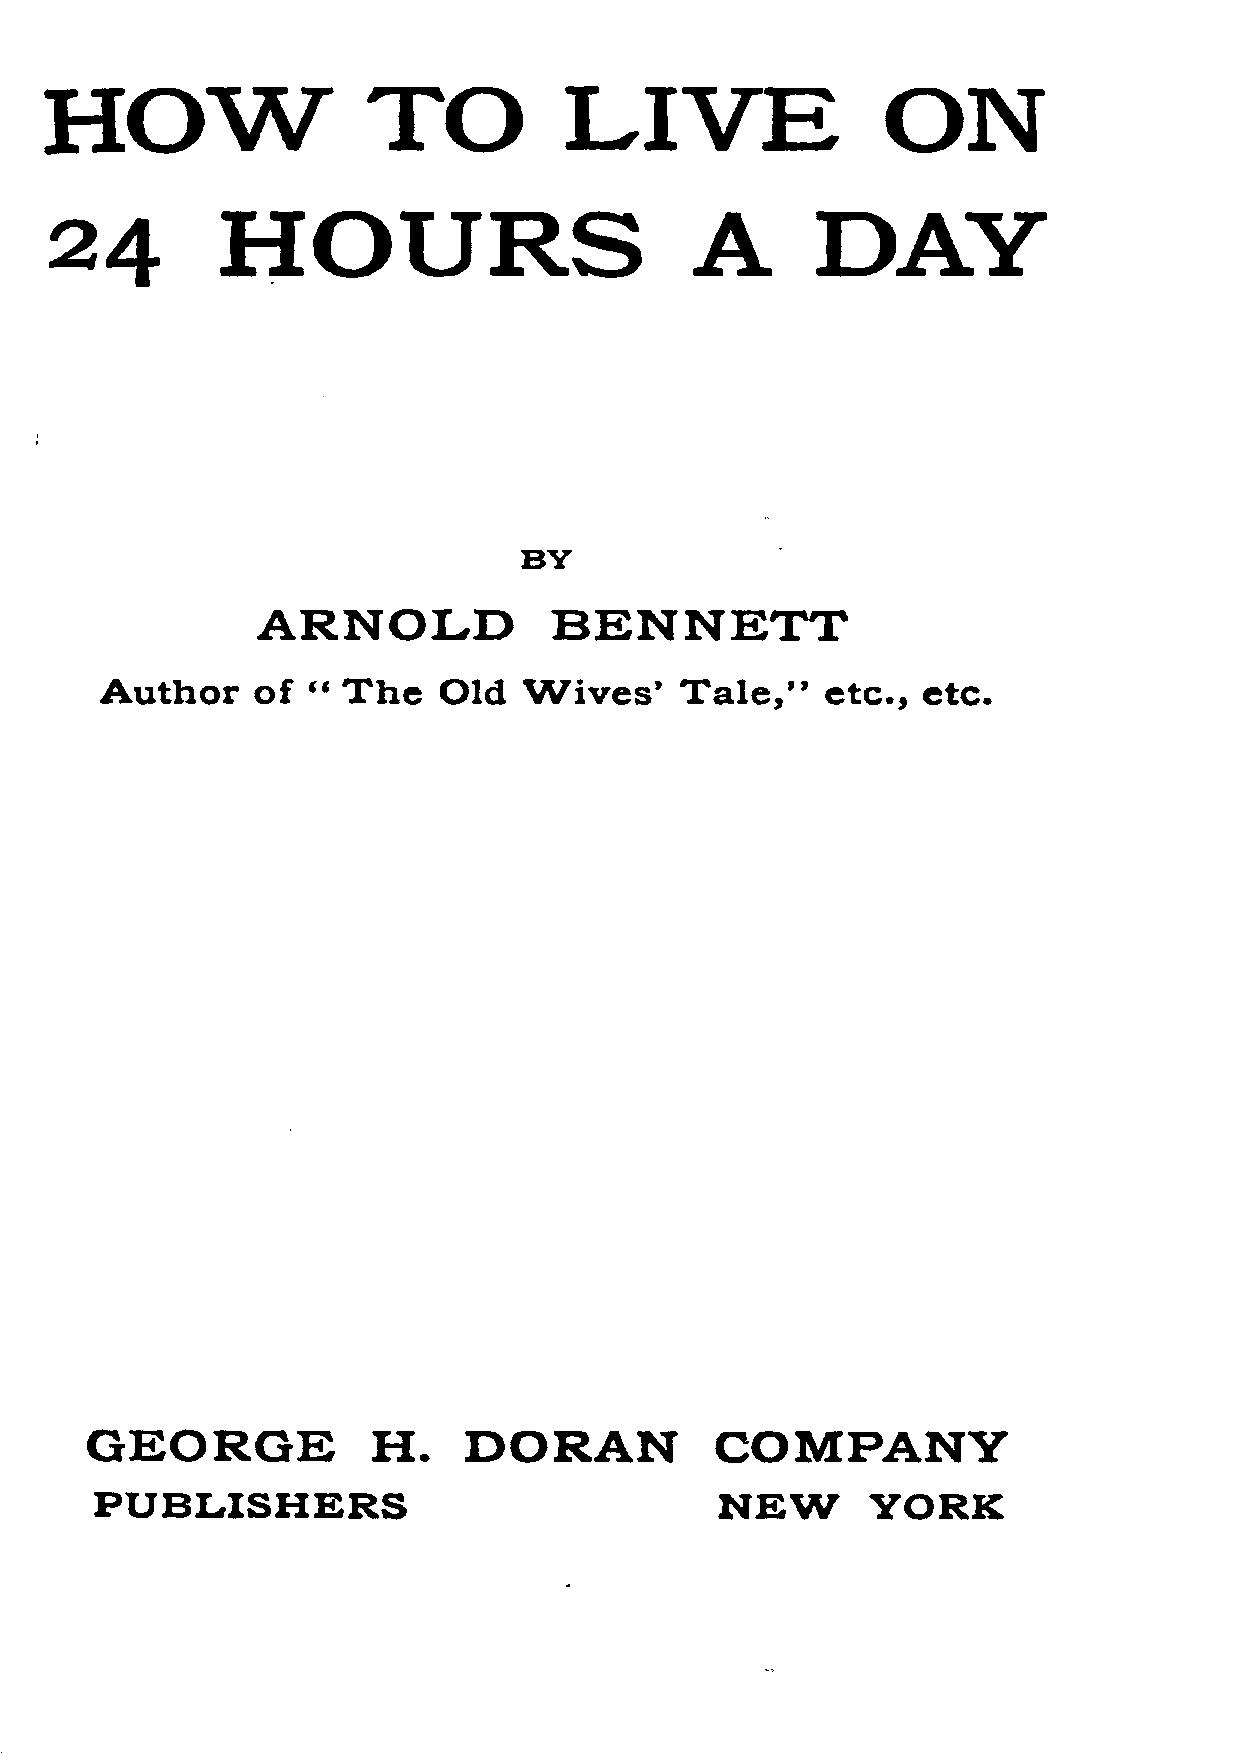author: (251, 545, 851, 643)
title: (35, 83, 1049, 291)
